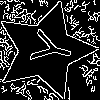Y: (20, 25, 75, 70)
